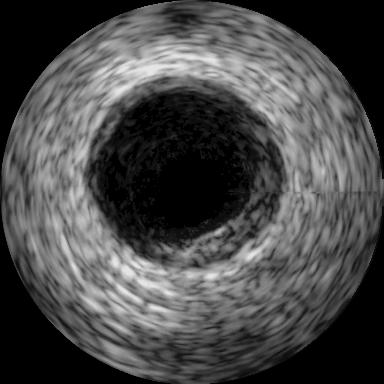Lumen: (143, 149, 233, 228)
